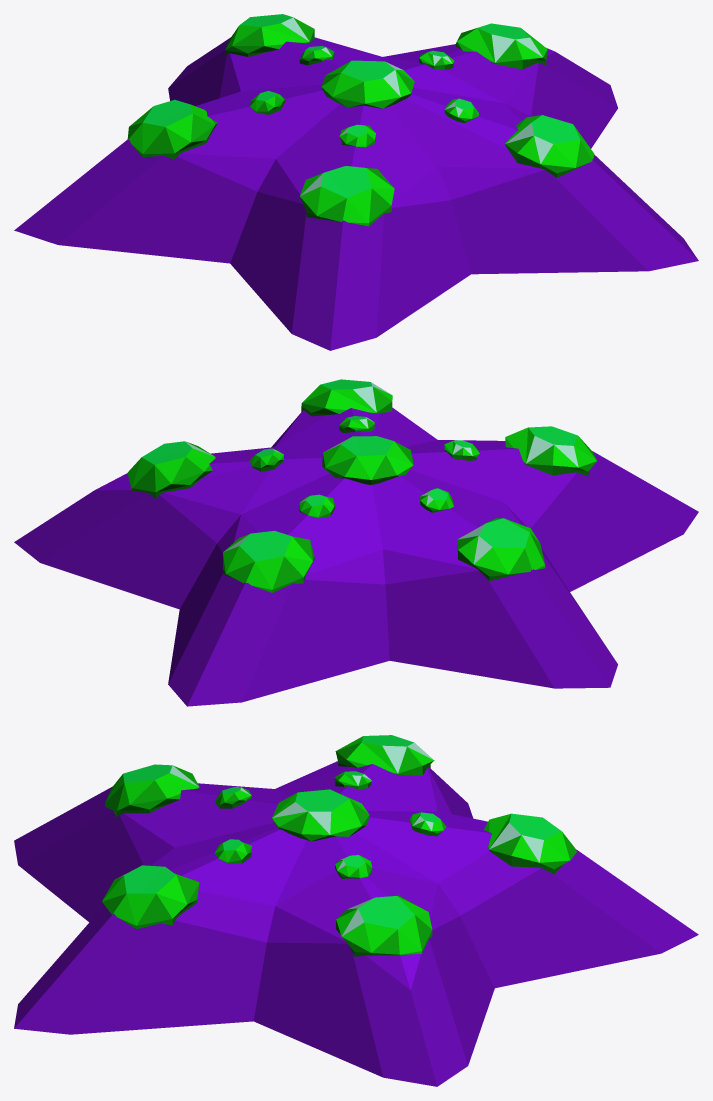
Rendered from starfish_purple.fbx.
3 renders of one model, top to bottom at view 1: azimuth 30°, elevation 25°; view 2: azimuth 150°, elevation 25°; view 3: azimuth 270°, elevation 25°, orthographic. The views are drawn at different scales.
Visible parts, largest first — view 1: starfish_purple; view 2: starfish_purple; view 3: starfish_purple.
Boxes of the visible parts, x1,y1,x2,y2 form: starfish_purple: (14,14,698,350); starfish_purple: (14,379,698,706); starfish_purple: (14,735,698,1086).
Size of the model in its own units: 0.7089 by 0.1461 by 0.6742.
